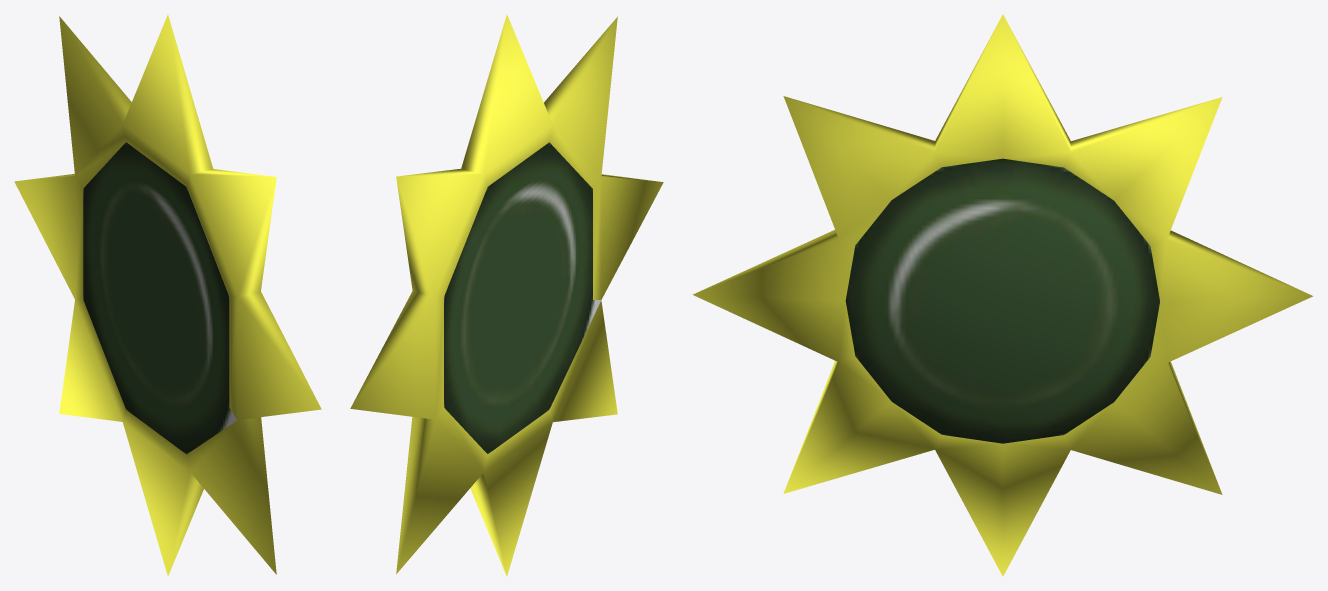
File: GreenHillSunflowerTop.obj
The picture shows the model from 3 angles, left to right: view 1: azimuth 30°, elevation 25°; view 2: azimuth 150°, elevation 25°; view 3: azimuth 270°, elevation 25°; orthographic projection.
Bounding box in the file's own units: 0.968 × 11.07 × 11.07.
Materials: 1 (1 with a texture image).
